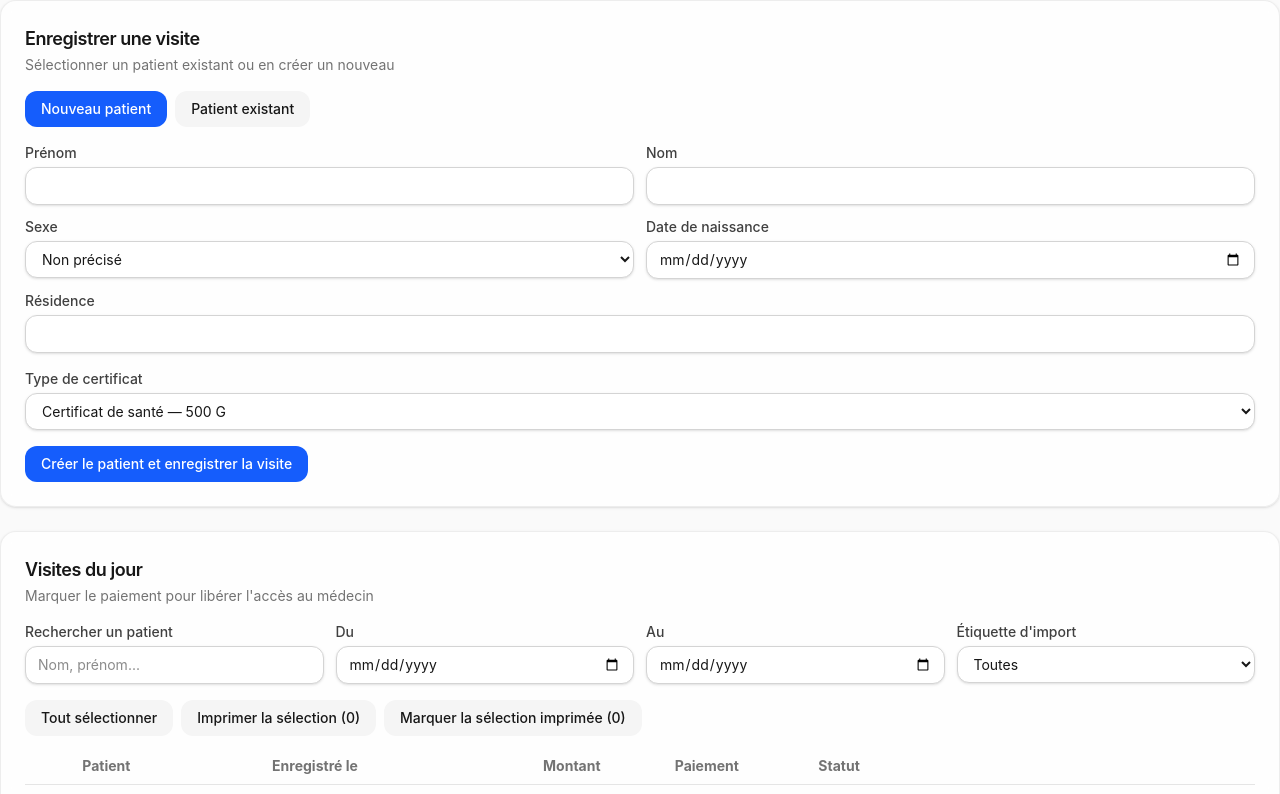
Test: ReceptionPage › selects all visits matching the active filters, beyond the current page, then can deselect all
This screenshot has width=1280, height=794.
Click the button "Tout sélectionner" at (99, 718), box [25,700,173,736]
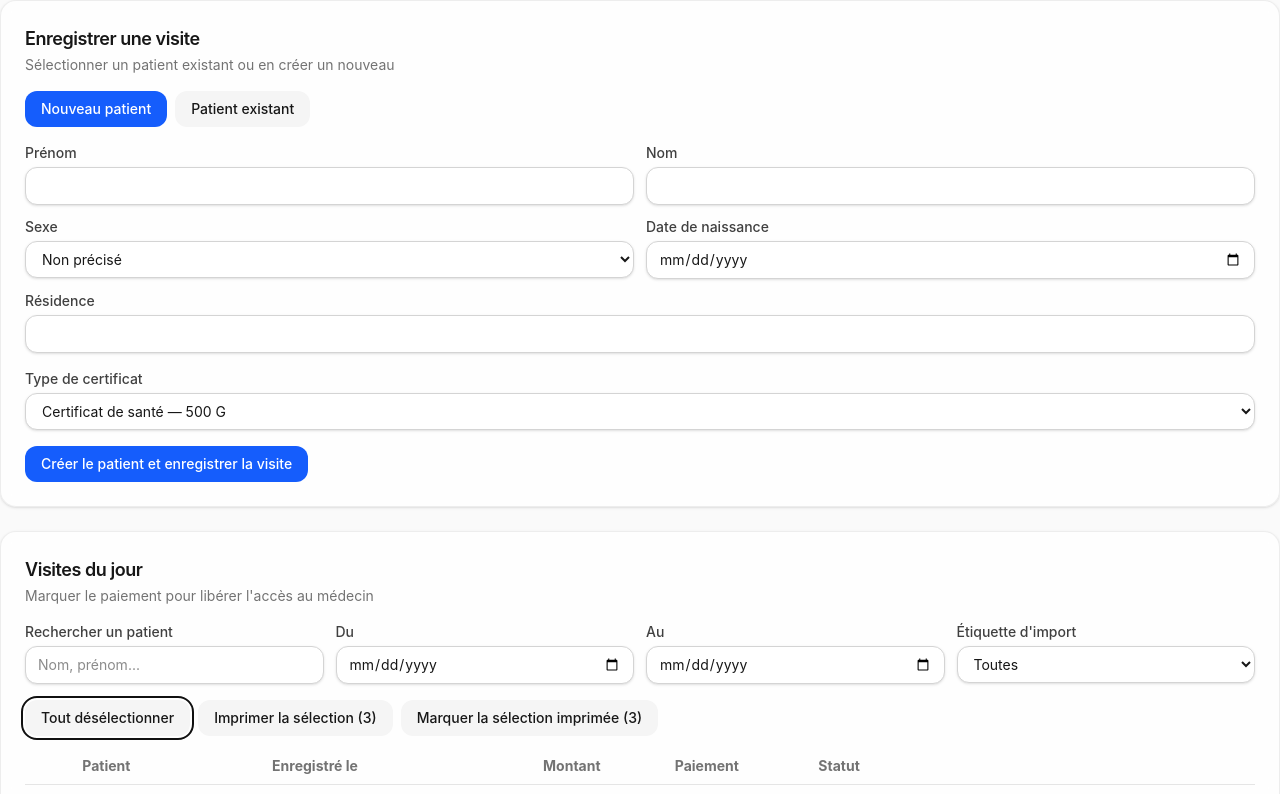
Now the button "Imprimer la sélection (3)" is shown, box [198,700,393,736]
Click the button "Tout désélectionner" at (108, 718), box [25,700,190,736]
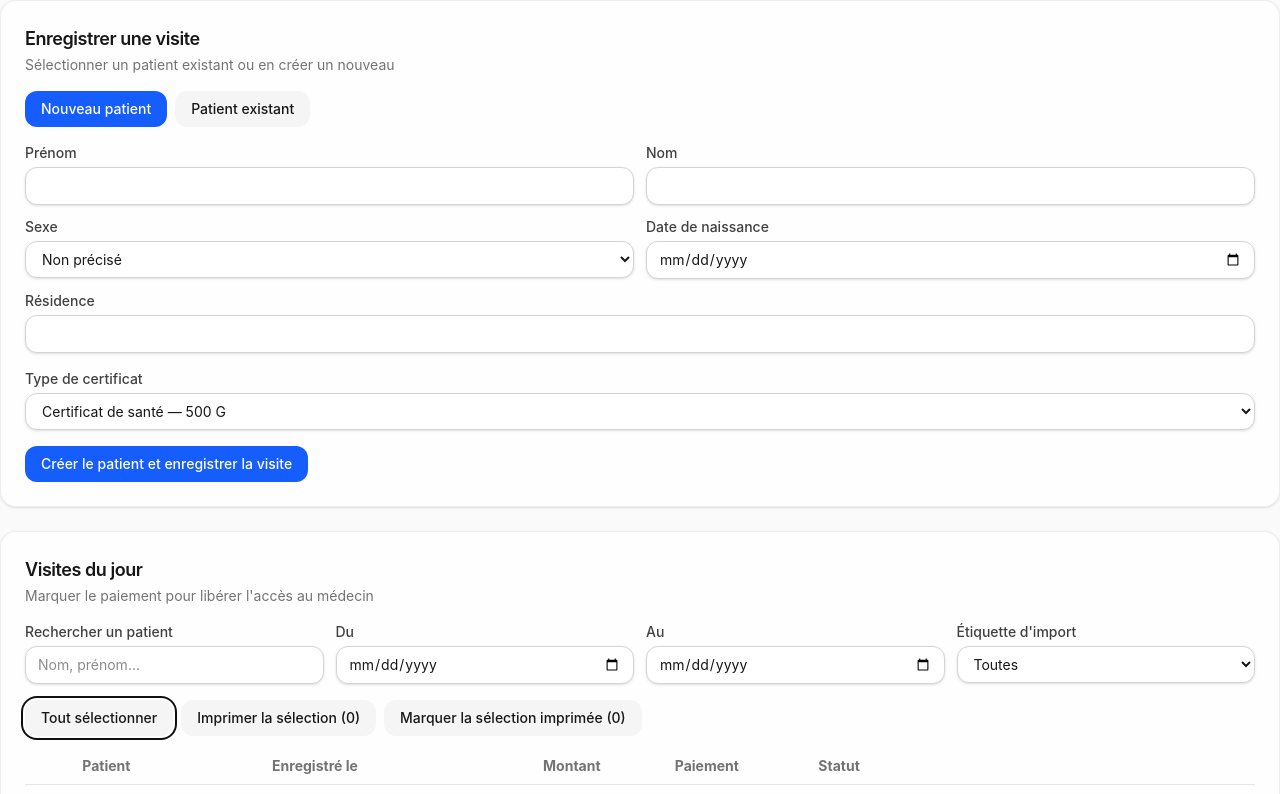
Now the button "Imprimer la sélection (0)" is shown, box [181,700,376,736]
